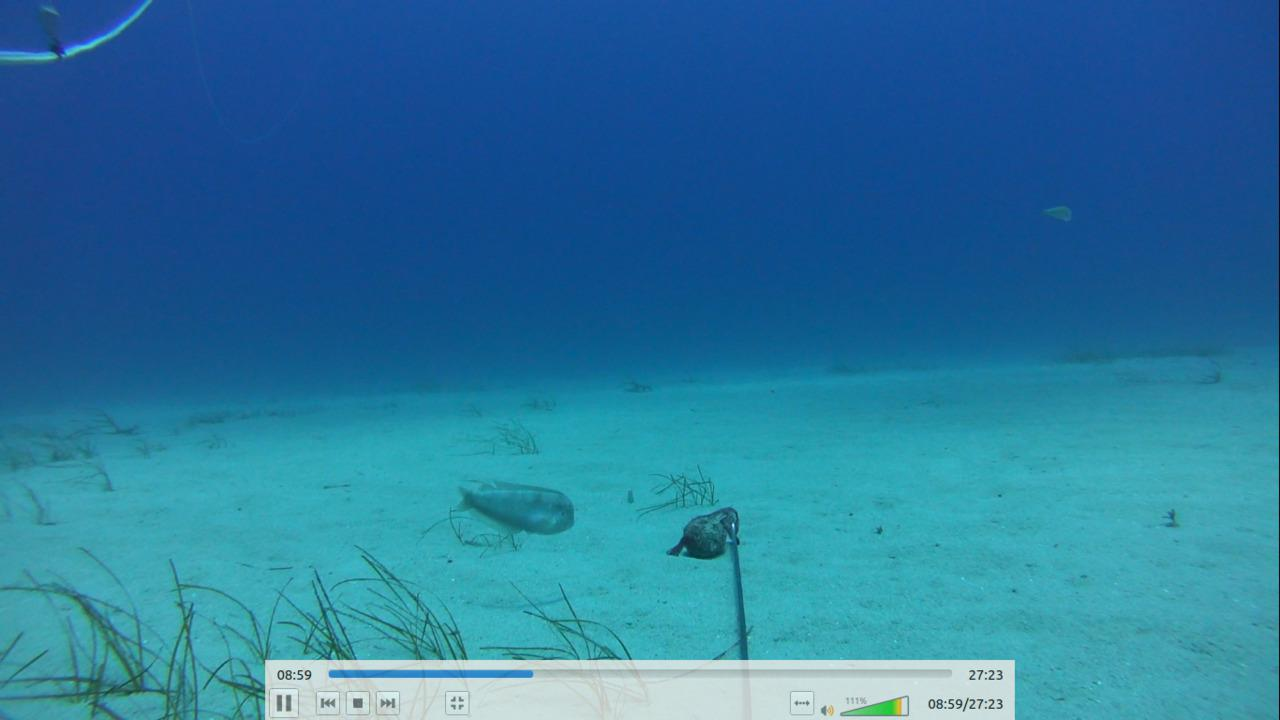raor: (446, 471, 580, 537), (1032, 194, 1078, 232)
